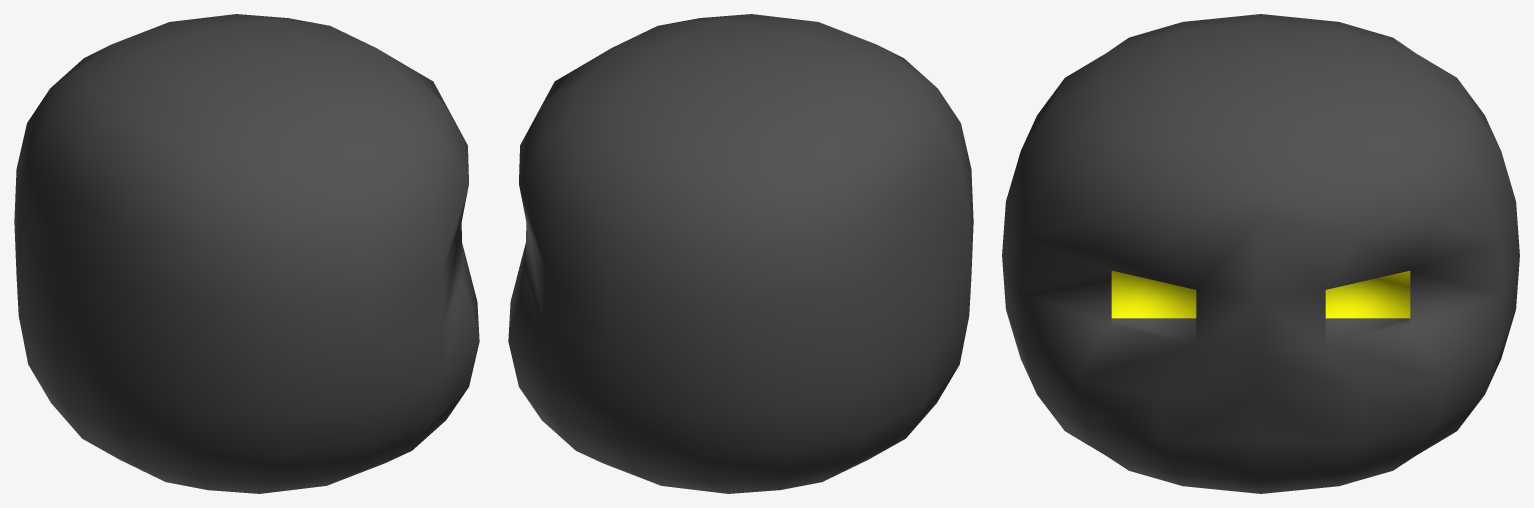
File: LightsOutCharacter_Tophalf.fbx
3 views of the same model, side by side, from view 1: azimuth 30°, elevation 25°; view 2: azimuth 150°, elevation 25°; view 3: azimuth 270°, elevation 25° (orthographic).
Parts seen in each view (by area): view 1: Head; view 2: Head; view 3: Head.
Boxes of the visible parts, x1,y1,x2,y2 form: Head: (14, 14, 479, 493); Head: (508, 14, 973, 493); Head: (1002, 14, 1519, 493).
Size of the model in its own units: 163 by 157 by 183.
